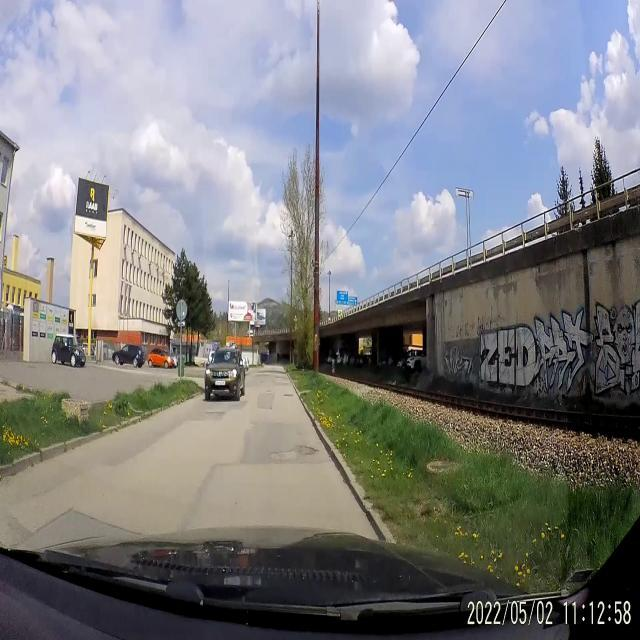Pothole: (268, 434, 320, 470), (202, 406, 227, 422), (283, 390, 295, 404), (265, 390, 272, 392), (260, 380, 264, 383)
